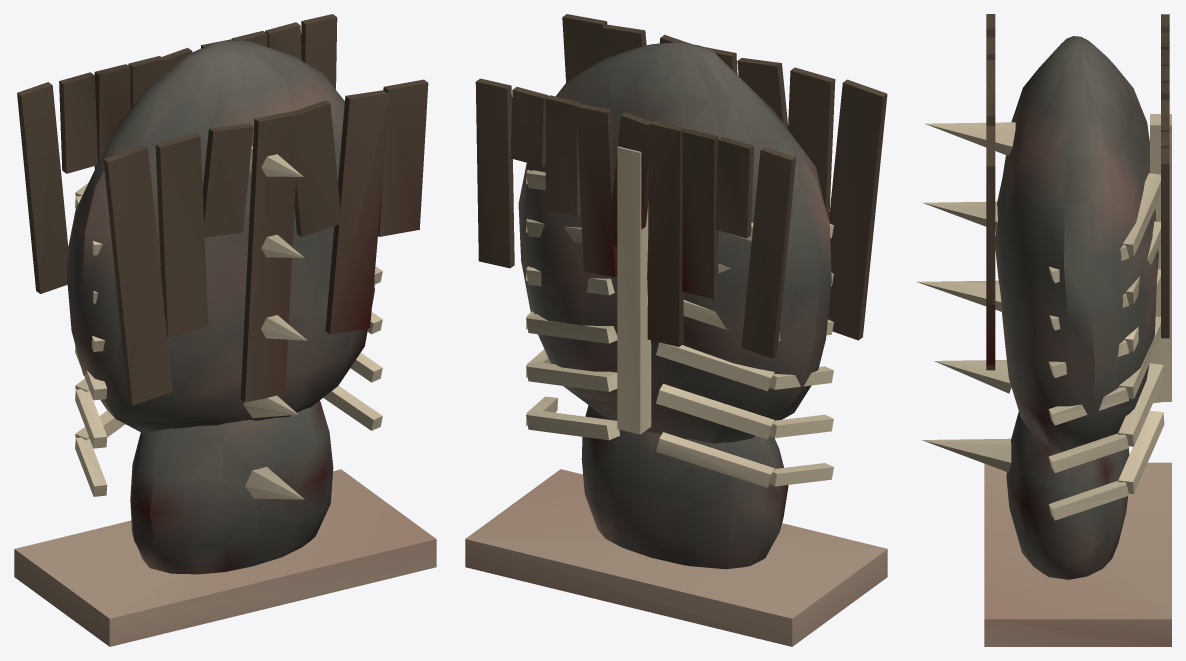
File: KinMonsterTorso.glb
3 renders of one model, left to right at view 1: azimuth 30°, elevation 25°; view 2: azimuth 150°, elevation 25°; view 3: azimuth 270°, elevation 25°, orthographic.
Parts seen in each view (by area): view 1: KinMonsterTorso_shirtKin, KinMonsterTorso_monster_skin, KinMonsterTorso_leather, KinMonsterTorso_bone; view 2: KinMonsterTorso_monster_skin, KinMonsterTorso_shirtKin, KinMonsterTorso_leather, KinMonsterTorso_bone; view 3: KinMonsterTorso_monster_skin, KinMonsterTorso_leather, KinMonsterTorso_bone, KinMonsterTorso_shirtKin.
Boxes of the visible parts, x1,y1,x2,y2 form: KinMonsterTorso_shirtKin: (17, 14, 428, 405); KinMonsterTorso_monster_skin: (65, 40, 374, 574); KinMonsterTorso_leather: (14, 469, 436, 646); KinMonsterTorso_bone: (75, 146, 382, 499); KinMonsterTorso_monster_skin: (518, 42, 831, 569); KinMonsterTorso_shirtKin: (475, 14, 887, 358); KinMonsterTorso_leather: (465, 469, 887, 646); KinMonsterTorso_bone: (526, 72, 833, 487); KinMonsterTorso_monster_skin: (995, 36, 1158, 579); KinMonsterTorso_leather: (984, 462, 1171, 646); KinMonsterTorso_bone: (916, 114, 1171, 520); KinMonsterTorso_shirtKin: (986, 14, 1169, 370).
Size of the model in its own units: 1.7 by 2.71 by 1.17.
